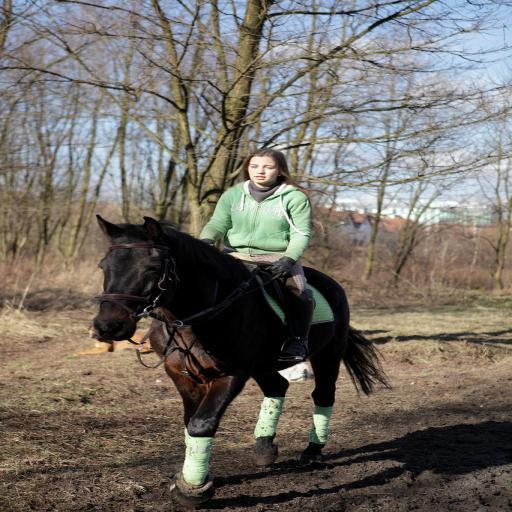horse: (91, 211, 396, 507)
